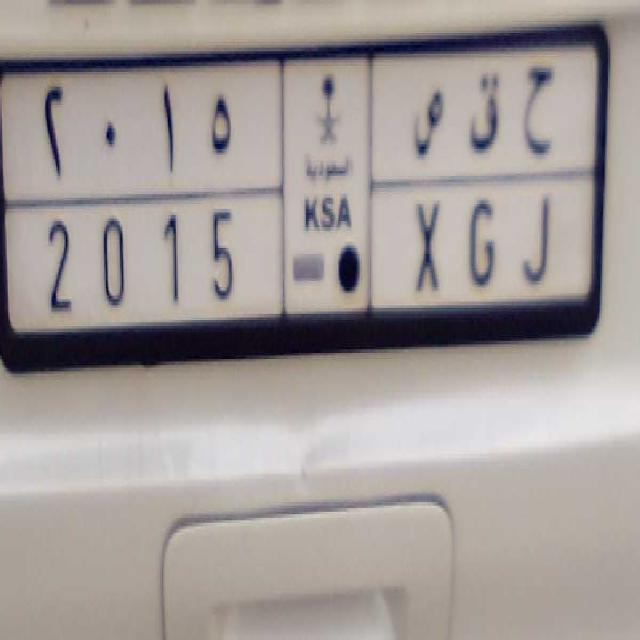license_plate: (16, 185, 584, 334)
